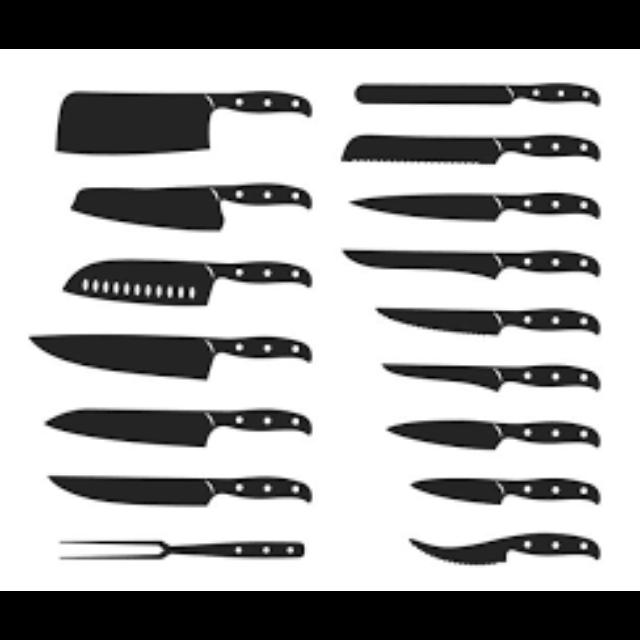Knife: (55, 88, 309, 154), (26, 332, 312, 380), (61, 258, 312, 306), (68, 182, 310, 230), (45, 408, 312, 448), (47, 474, 309, 506), (342, 248, 600, 280), (342, 133, 598, 161), (348, 191, 598, 219), (380, 362, 598, 392), (407, 532, 598, 566), (386, 420, 598, 450), (376, 306, 598, 334), (354, 80, 600, 104), (410, 477, 598, 505)
